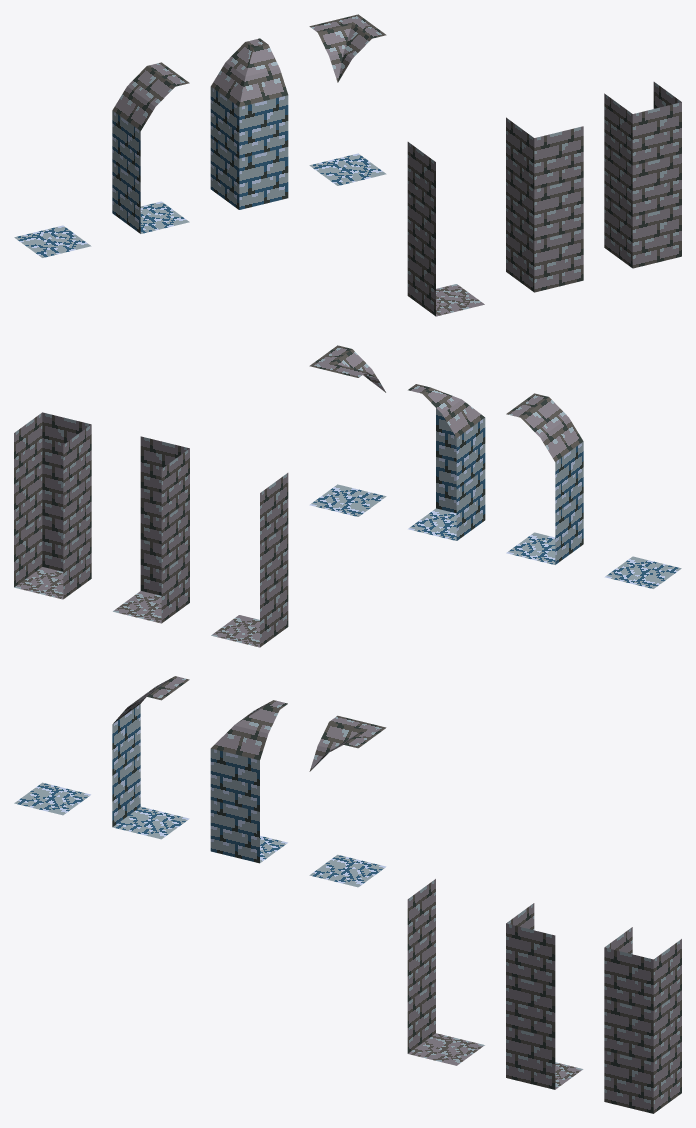
The model's file is walls-tiles.glb.
3 renders of one model, top to bottom at view 1: azimuth 30°, elevation 25°; view 2: azimuth 150°, elevation 25°; view 3: azimuth 330°, elevation 25°, orthographic.
Parts seen in each view (by area): view 1: Hole-uturn-col.001, Hole-corner-col.002, Wall-corner-col.001, Wall-side-col, Hole-side-col.001, Wall-outer-col.001, Ground-col; view 2: Hole-uturn-col.001, Hole-corner-col.002, Wall-corner-col.001, Wall-side-col, Hole-side-col.001, Wall-outer-col.001, Ground-col; view 3: Hole-uturn-col.001, Hole-corner-col.002, Wall-corner-col.001, Hole-side-col.001, Wall-side-col, Wall-outer-col.001, Ground-col.
Boxes of the visible parts, x1=… form: Hole-uturn-col.001: x1=604, y1=82, x2=681, y2=268; Hole-corner-col.002: x1=506, y1=117, x2=583, y2=292; Wall-corner-col.001: x1=210, y1=38, x2=288, y2=209; Wall-side-col: x1=112, y1=62, x2=189, y2=233; Hole-side-col.001: x1=407, y1=142, x2=484, y2=316; Wall-outer-col.001: x1=309, y1=14, x2=386, y2=185; Ground-col: x1=14, y1=225, x2=91, y2=257; Hole-uturn-col.001: x1=14, y1=412, x2=91, y2=599; Hole-corner-col.002: x1=113, y1=436, x2=189, y2=623; Wall-corner-col.001: x1=408, y1=384, x2=485, y2=540; Wall-side-col: x1=506, y1=393, x2=583, y2=564; Hole-side-col.001: x1=211, y1=473, x2=288, y2=647; Wall-outer-col.001: x1=309, y1=345, x2=386, y2=516; Ground-col: x1=604, y1=556, x2=681, y2=588; Hole-uturn-col.001: x1=604, y1=927, x2=681, y2=1113; Hole-corner-col.002: x1=506, y1=903, x2=583, y2=1089; Wall-corner-col.001: x1=210, y1=700, x2=287, y2=863; Hole-side-col.001: x1=407, y1=879, x2=484, y2=1065; Wall-side-col: x1=112, y1=676, x2=189, y2=839; Wall-outer-col.001: x1=309, y1=715, x2=386, y2=887; Ground-col: x1=14, y1=782, x2=90, y2=815.
Size of the model in its own units: 13 by 5.7 by 1.
1 material, 1 textured.
